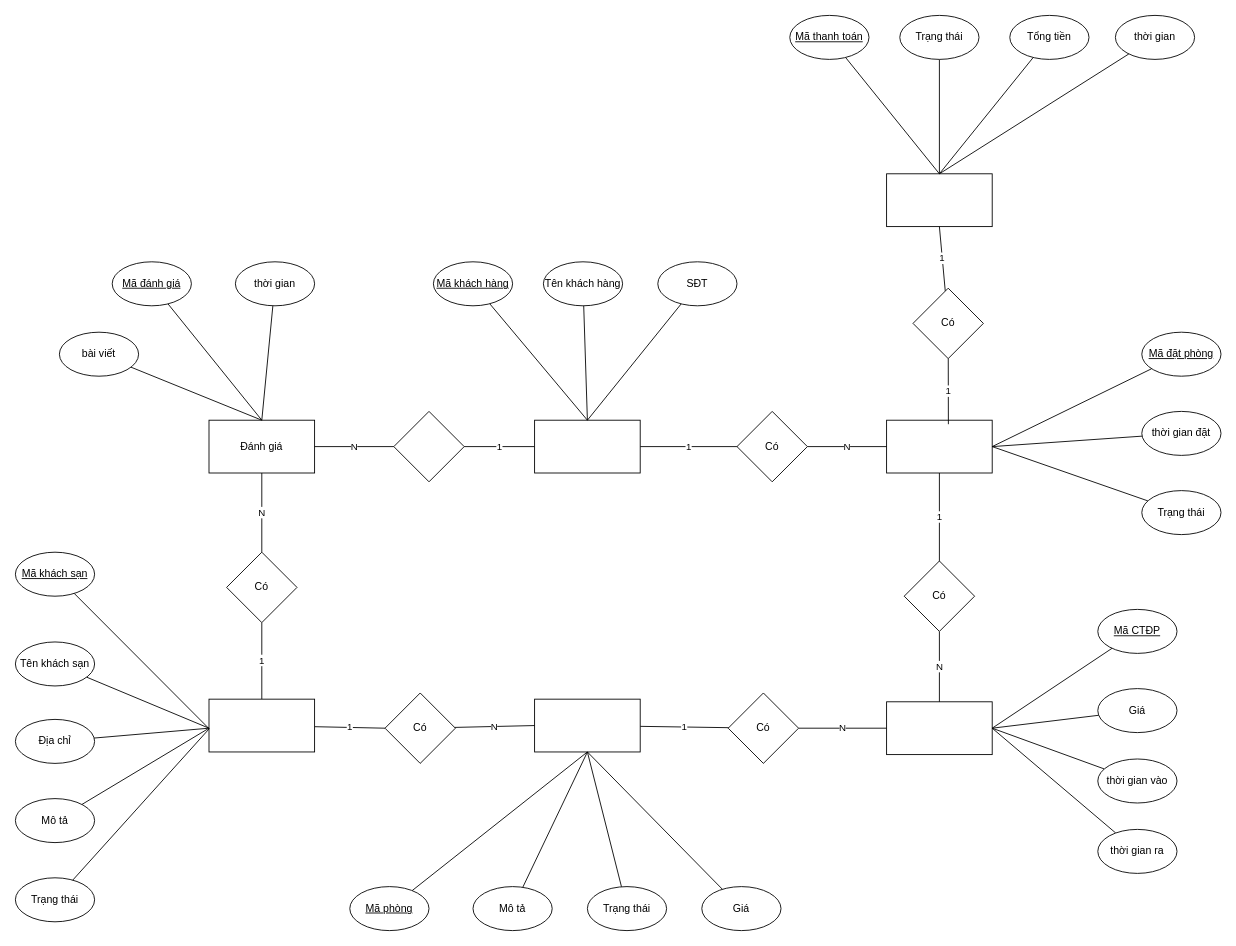
Image size: 1236x946. Some labels were removed from this diagram. The centre of each missing label's shape, as x and y in pixels:
Chi tiết đặt phòng: the point at 939,728
Khách: the point at 587,446
Khách sạn: the point at 261,725
Phòng: the point at 587,725
Thanh toán: the point at 939,200
Viết: the point at 428,446
Đặt phòng: the point at 939,446
